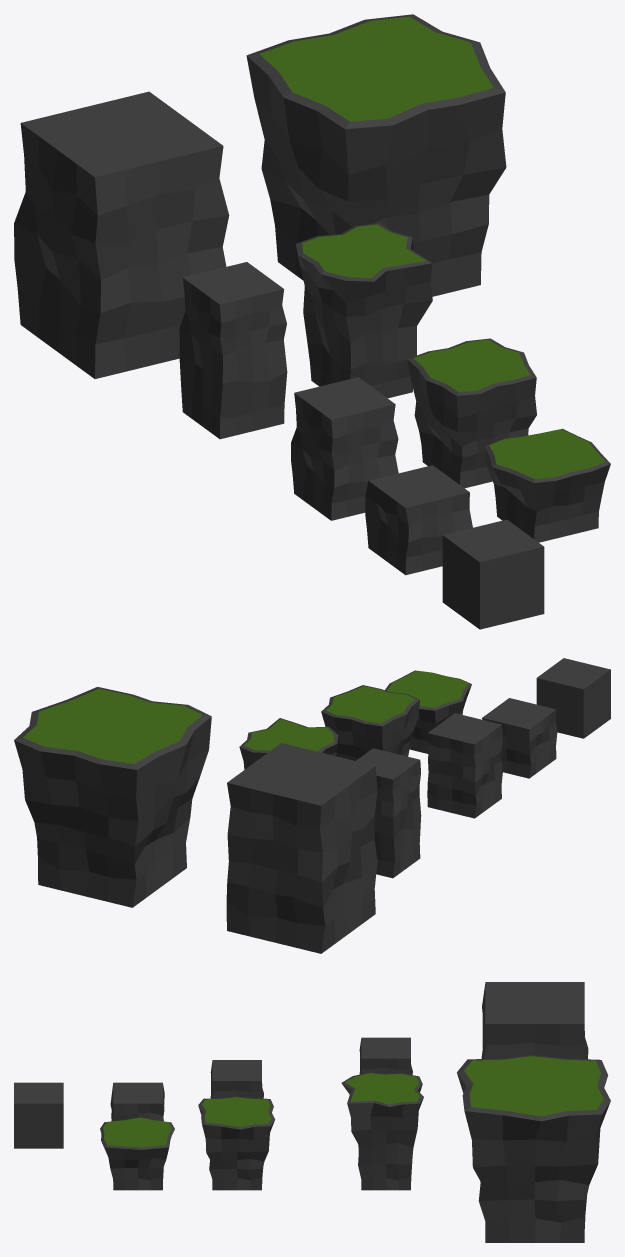
The model's file is rocksplatformTiles.glb.
3 views of the same model, one above another, from view 1: azimuth 30°, elevation 25°; view 2: azimuth 150°, elevation 25°; view 3: azimuth 270°, elevation 25° (orthographic). The views are drawn at different scales.
Visible parts, largest first — view 1: CubeGG2-col, CubeGG1-col, CubeB2-col, CubeB1-col, CubeM2-col, CubeM1-col, CubeS2-col, Cube-col, CubeS1-col; view 2: CubeGG2-col, CubeGG1-col, CubeM1-col, CubeB1-col, CubeM2-col, Cube-col, CubeS1-col, CubeS2-col, CubeB2-col; view 3: CubeGG2-col, CubeGG1-col, CubeB2-col, CubeM2-col, CubeS2-col, Cube-col, CubeS1-col, CubeM1-col, CubeB1-col.
Part boxes in pixels (x1,y1,x2,y2): CubeGG2-col: (246, 14, 506, 296); CubeGG1-col: (14, 91, 229, 378); CubeB2-col: (295, 223, 432, 398); CubeB1-col: (179, 262, 287, 439); CubeM2-col: (407, 338, 536, 488); CubeM1-col: (291, 377, 398, 520); CubeS2-col: (484, 428, 610, 542); Cube-col: (442, 519, 544, 629); CubeS1-col: (365, 465, 472, 575); CubeGG2-col: (14, 687, 211, 907); CubeGG1-col: (226, 743, 377, 953); CubeM1-col: (427, 713, 502, 818); CubeB1-col: (356, 748, 421, 878); CubeM2-col: (321, 685, 419, 760); Cube-col: (536, 658, 610, 738); CubeS1-col: (482, 698, 557, 778); CubeS2-col: (385, 670, 471, 753); CubeB2-col: (239, 718, 338, 769); CubeGG2-col: (457, 1055, 610, 1242); CubeGG1-col: (481, 982, 588, 1059); CubeB2-col: (341, 1072, 423, 1190); CubeM2-col: (198, 1096, 275, 1190); CubeS2-col: (100, 1117, 174, 1190); Cube-col: (14, 1082, 63, 1148); CubeS1-col: (110, 1082, 164, 1121); CubeM1-col: (210, 1060, 263, 1098); CubeB1-col: (359, 1037, 412, 1074).
Bounding box in the file's own units: 13.43 × 6.08 × 24.06.
Materials: 1 (1 with a texture image).
